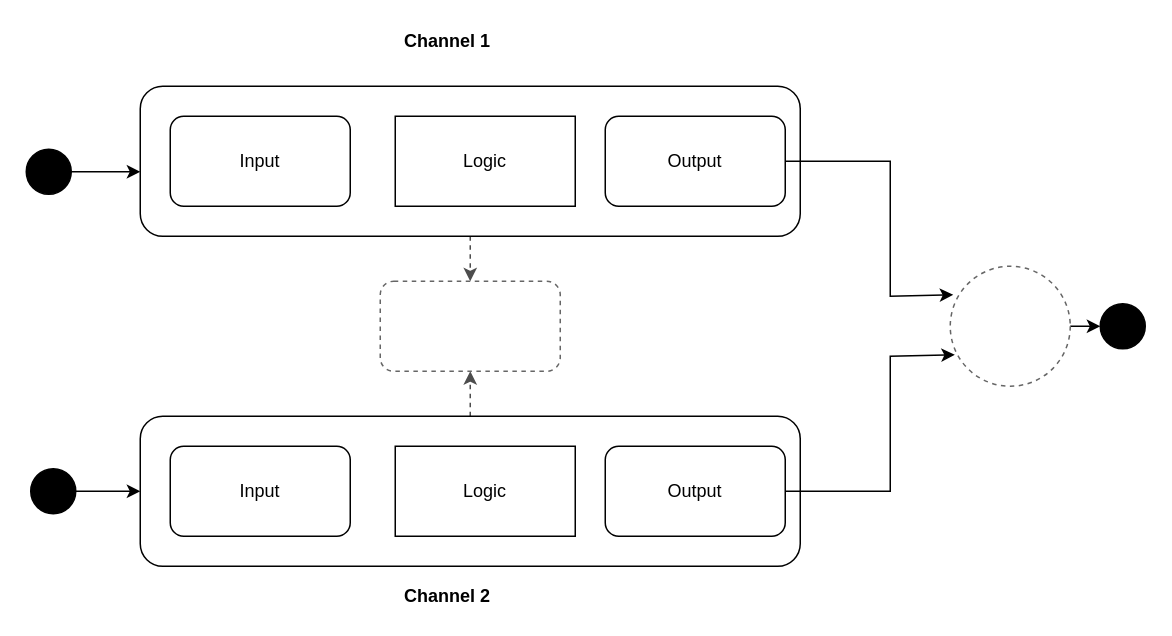
The diagram is 1172 pixels wide and 636 high, and some of its shapes have lost their labels. Each missing label, with the box of its shape:
2oo2: (949, 265, 1070, 386)
Diagnostics: (379, 280, 560, 371)
